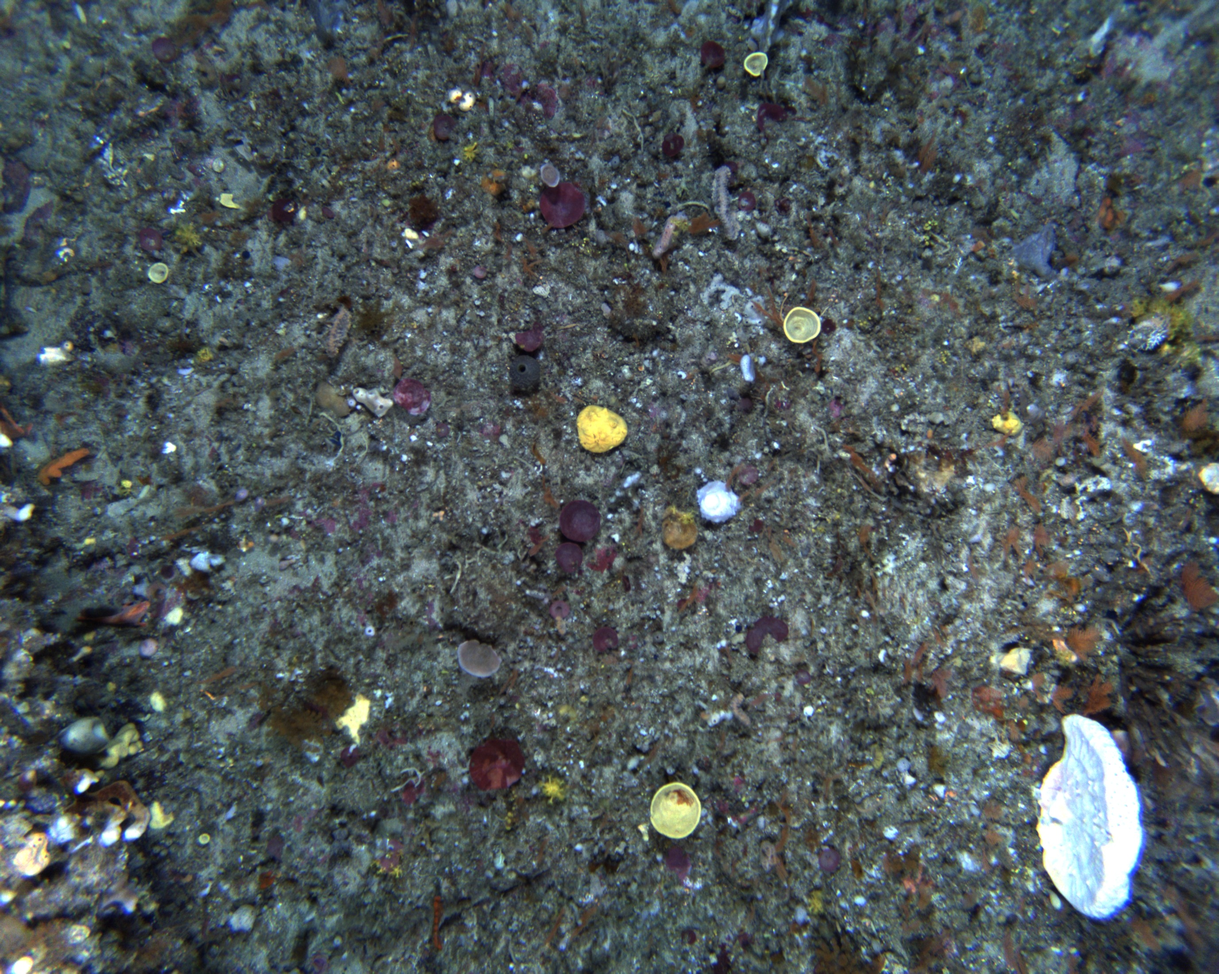Brachionichthyidae: (75, 596, 153, 629)
